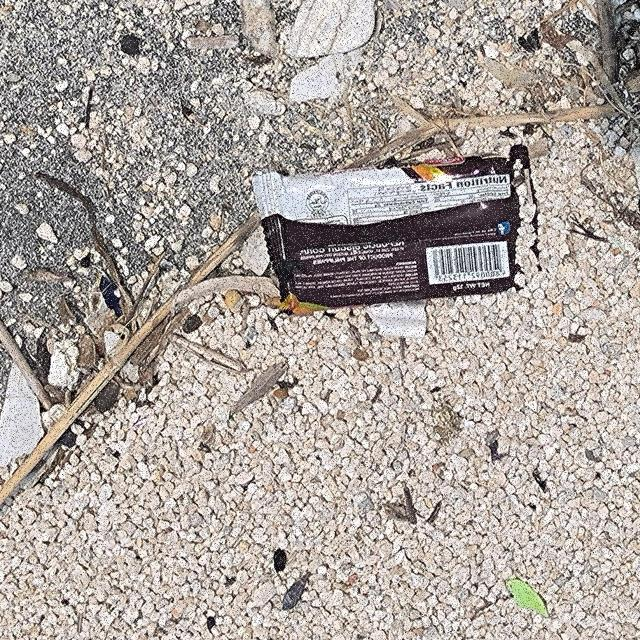plastic_waste: (251, 157, 521, 320)
styrofoam_waste: (285, 1, 377, 62)
